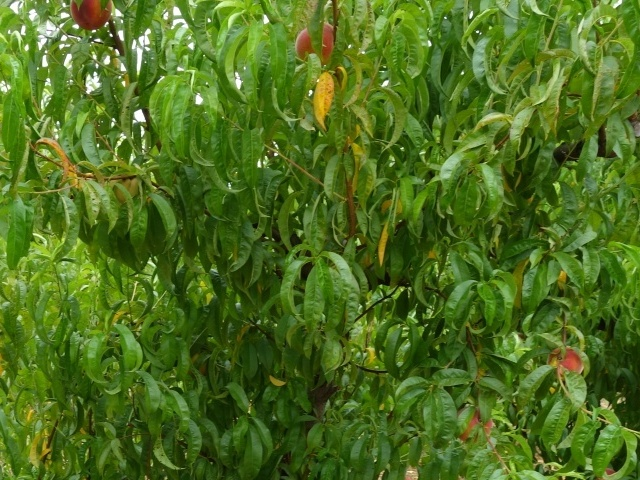peach: (295, 19, 345, 65), (453, 400, 495, 448), (64, 1, 116, 32), (545, 343, 583, 379)
